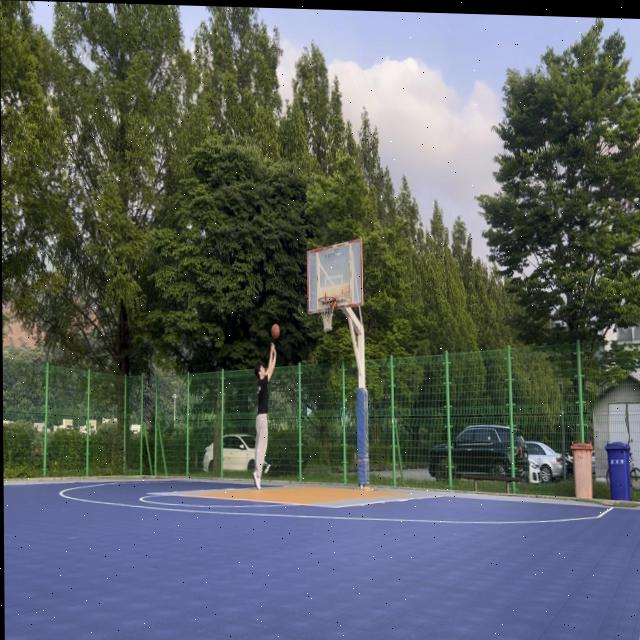basketball: (271, 323, 280, 340)
hoop: (318, 296, 336, 333)
